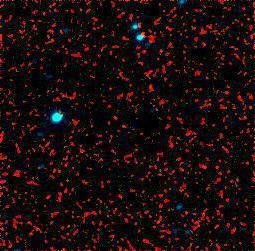star: (210, 82, 240, 112)
